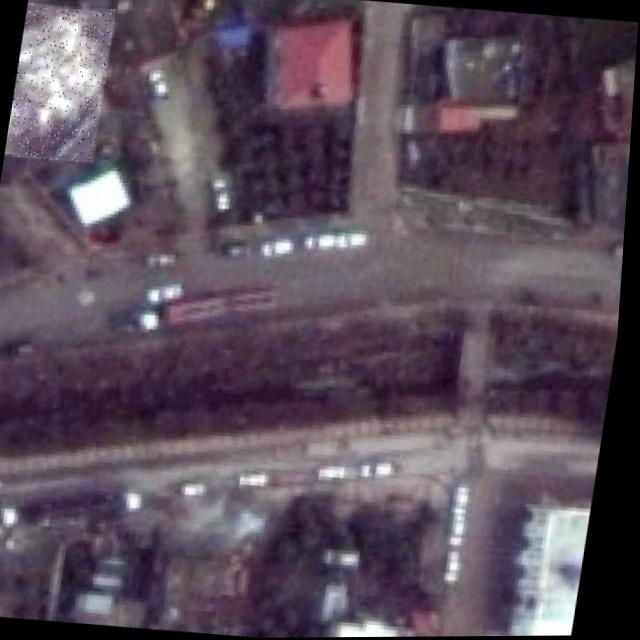Rubble: (4, 2, 115, 163)
